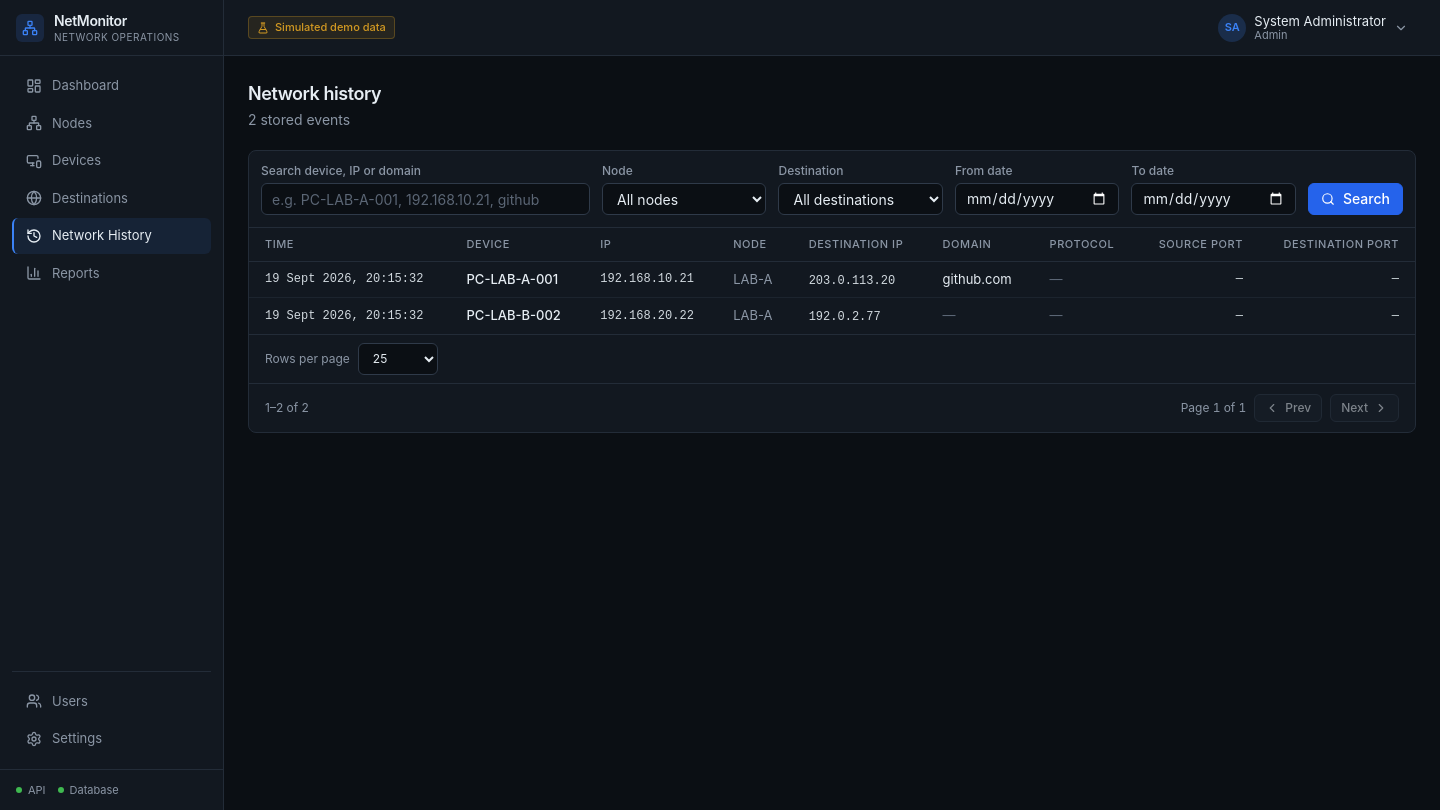
HistoryPage › shows dashes in the panel for an event without connection details
What coordinates should you click on to do the following:
click the row "PC-LAB-A-001"
I would click on:
 (832, 279)
Its box is [249, 261, 1415, 298].
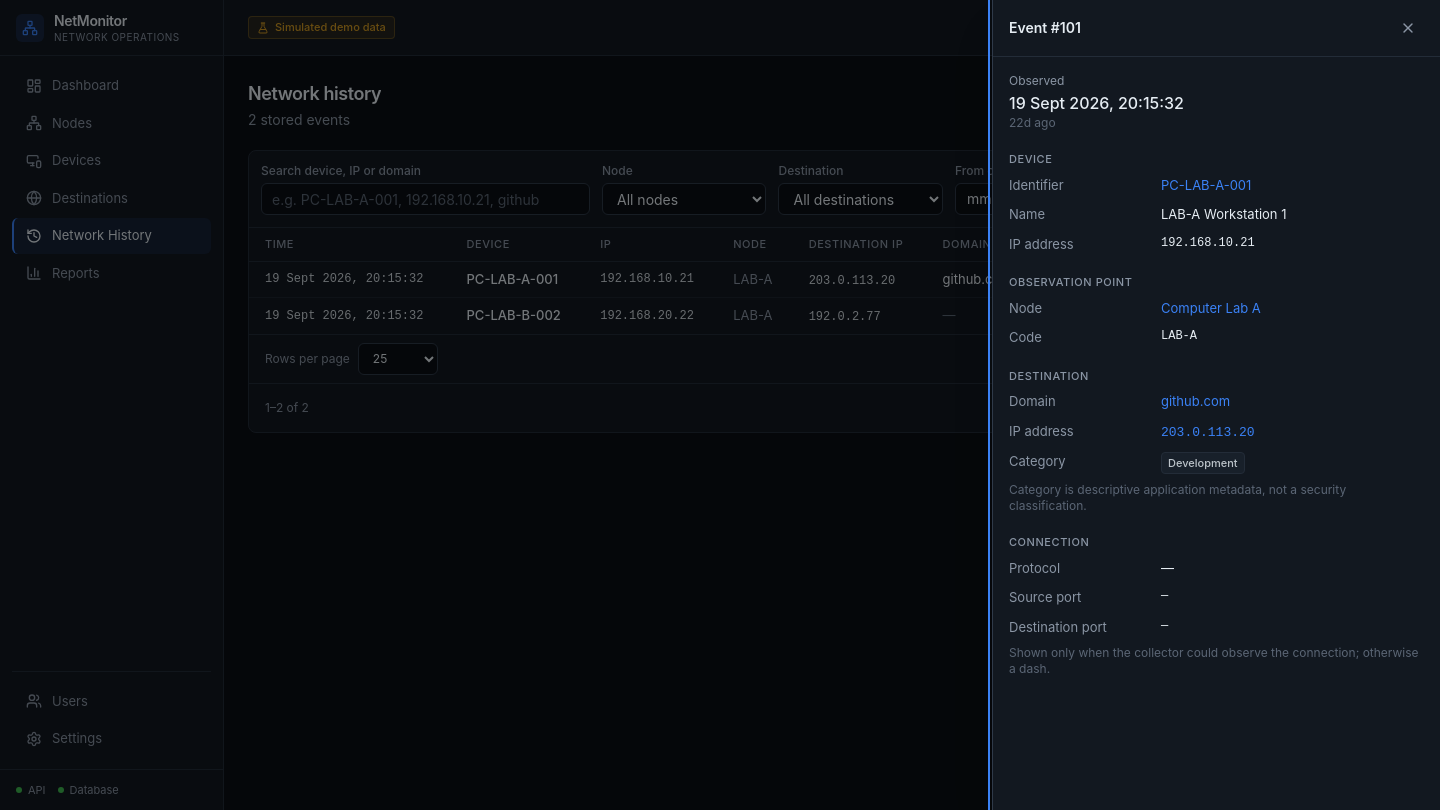
Expected: the text "—" is shown 3 times, [1161, 560, 1174, 576]; [1161, 589, 1168, 603]; [1161, 618, 1168, 632]
